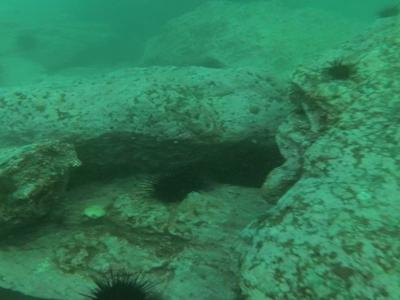urchin: (78, 264, 162, 298), (140, 173, 202, 202), (327, 61, 352, 80), (378, 5, 396, 20)
